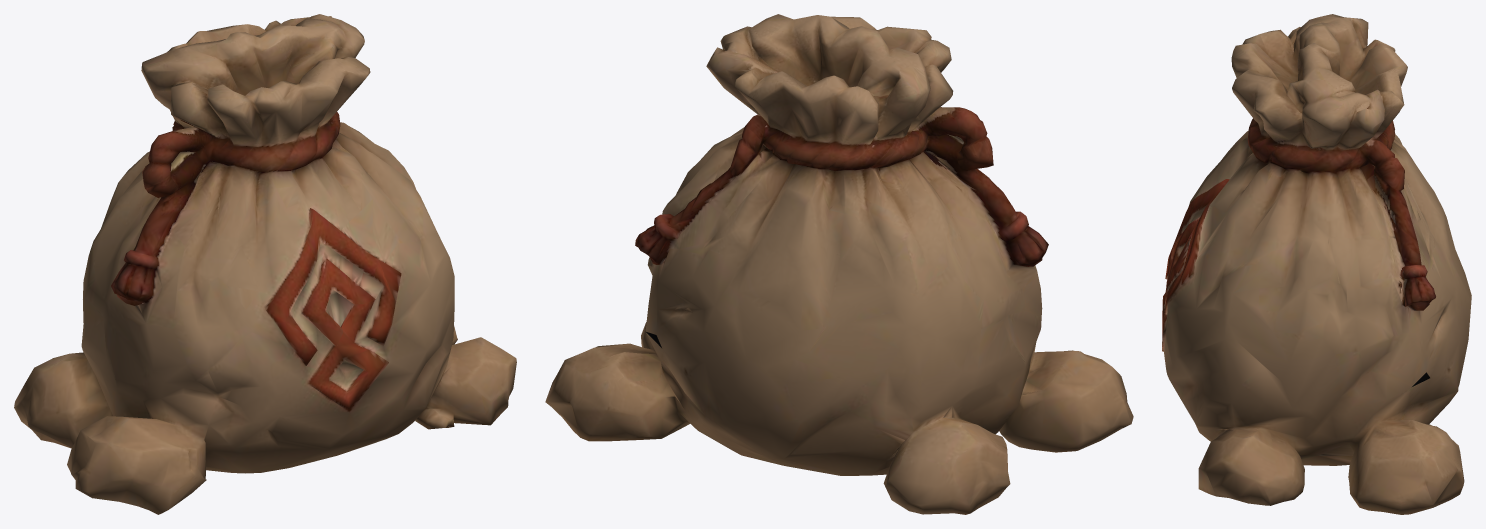
The model's file is bolsa_de_cuarzos.glb.
The picture shows the model from 3 angles, left to right: view 1: azimuth 30°, elevation 25°; view 2: azimuth 150°, elevation 25°; view 3: azimuth 270°, elevation 25°; orthographic projection. The views are drawn at different scales.
Visible parts, largest first — view 1: bolsa_de_cuarzos; view 2: bolsa_de_cuarzos; view 3: bolsa_de_cuarzos.
Part boxes in pixels (x1,y1,x2,y2): bolsa_de_cuarzos: (14,14,516,514); bolsa_de_cuarzos: (545,14,1133,514); bolsa_de_cuarzos: (1162,14,1471,514).
Size of what is drawn, in the model's own units: 0.6189 by 0.4997 by 0.3728.
Materials: 1 (1 with a texture image).
